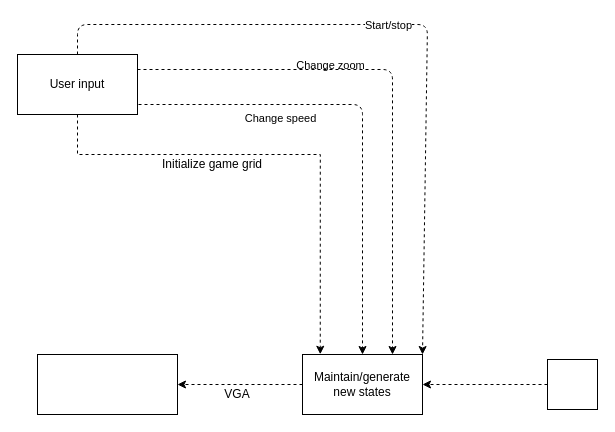
The diagram is 615 pixels wide and 432 high, and some of its shapes have lost their labels. The centre of each missing label's shape, as x and y in pixels:
"Display game on screen" belongs at [107,384].
"Startup" belongs at [572,384].
